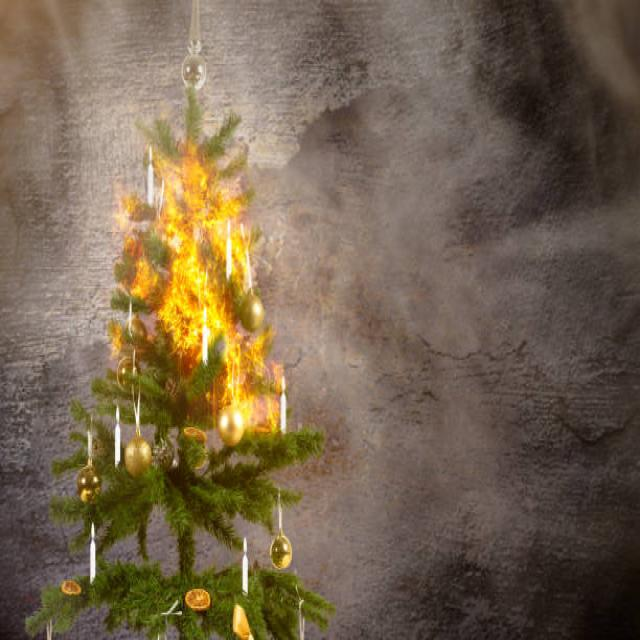fire: (112, 103, 296, 442)
